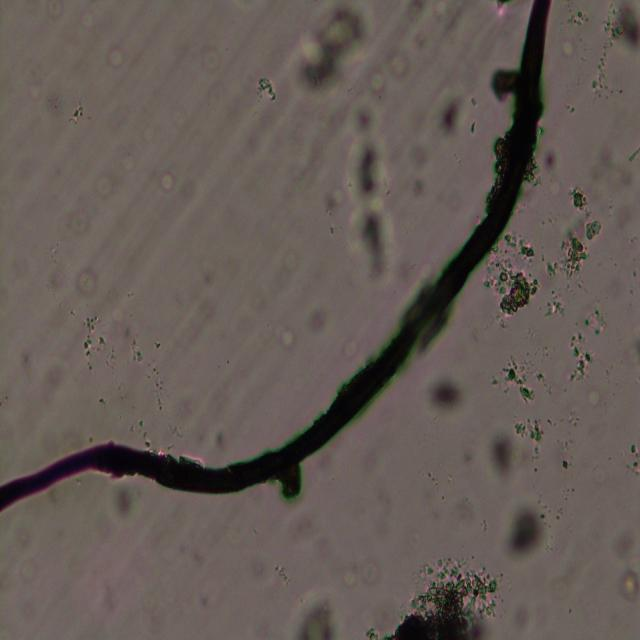Background material: (344, 97, 394, 288), (384, 557, 496, 639), (294, 8, 366, 93), (492, 235, 542, 324), (358, 38, 422, 107), (120, 320, 170, 406), (554, 190, 600, 281), (582, 143, 640, 205), (74, 303, 118, 376), (490, 350, 537, 408), (507, 504, 549, 568), (512, 404, 552, 467), (49, 80, 93, 130), (486, 426, 520, 483), (424, 373, 468, 417), (606, 1, 640, 56), (590, 34, 616, 103), (36, 353, 68, 409), (186, 296, 222, 344), (248, 62, 286, 107), (562, 332, 594, 383), (58, 200, 92, 247), (158, 163, 200, 201), (302, 595, 338, 638), (435, 90, 467, 138), (337, 558, 383, 590), (408, 139, 432, 198), (312, 182, 350, 218), (288, 508, 324, 544), (491, 60, 519, 106), (76, 264, 104, 310), (92, 163, 121, 201), (107, 486, 135, 525), (555, 435, 575, 481), (270, 326, 298, 356), (620, 438, 640, 479), (582, 377, 603, 415), (200, 43, 224, 73), (273, 244, 297, 274), (103, 46, 129, 72), (305, 308, 330, 335), (573, 7, 595, 35), (541, 147, 561, 177), (269, 561, 291, 588), (618, 572, 640, 598), (215, 431, 231, 454)
Cotton: (0, 1, 553, 514)
